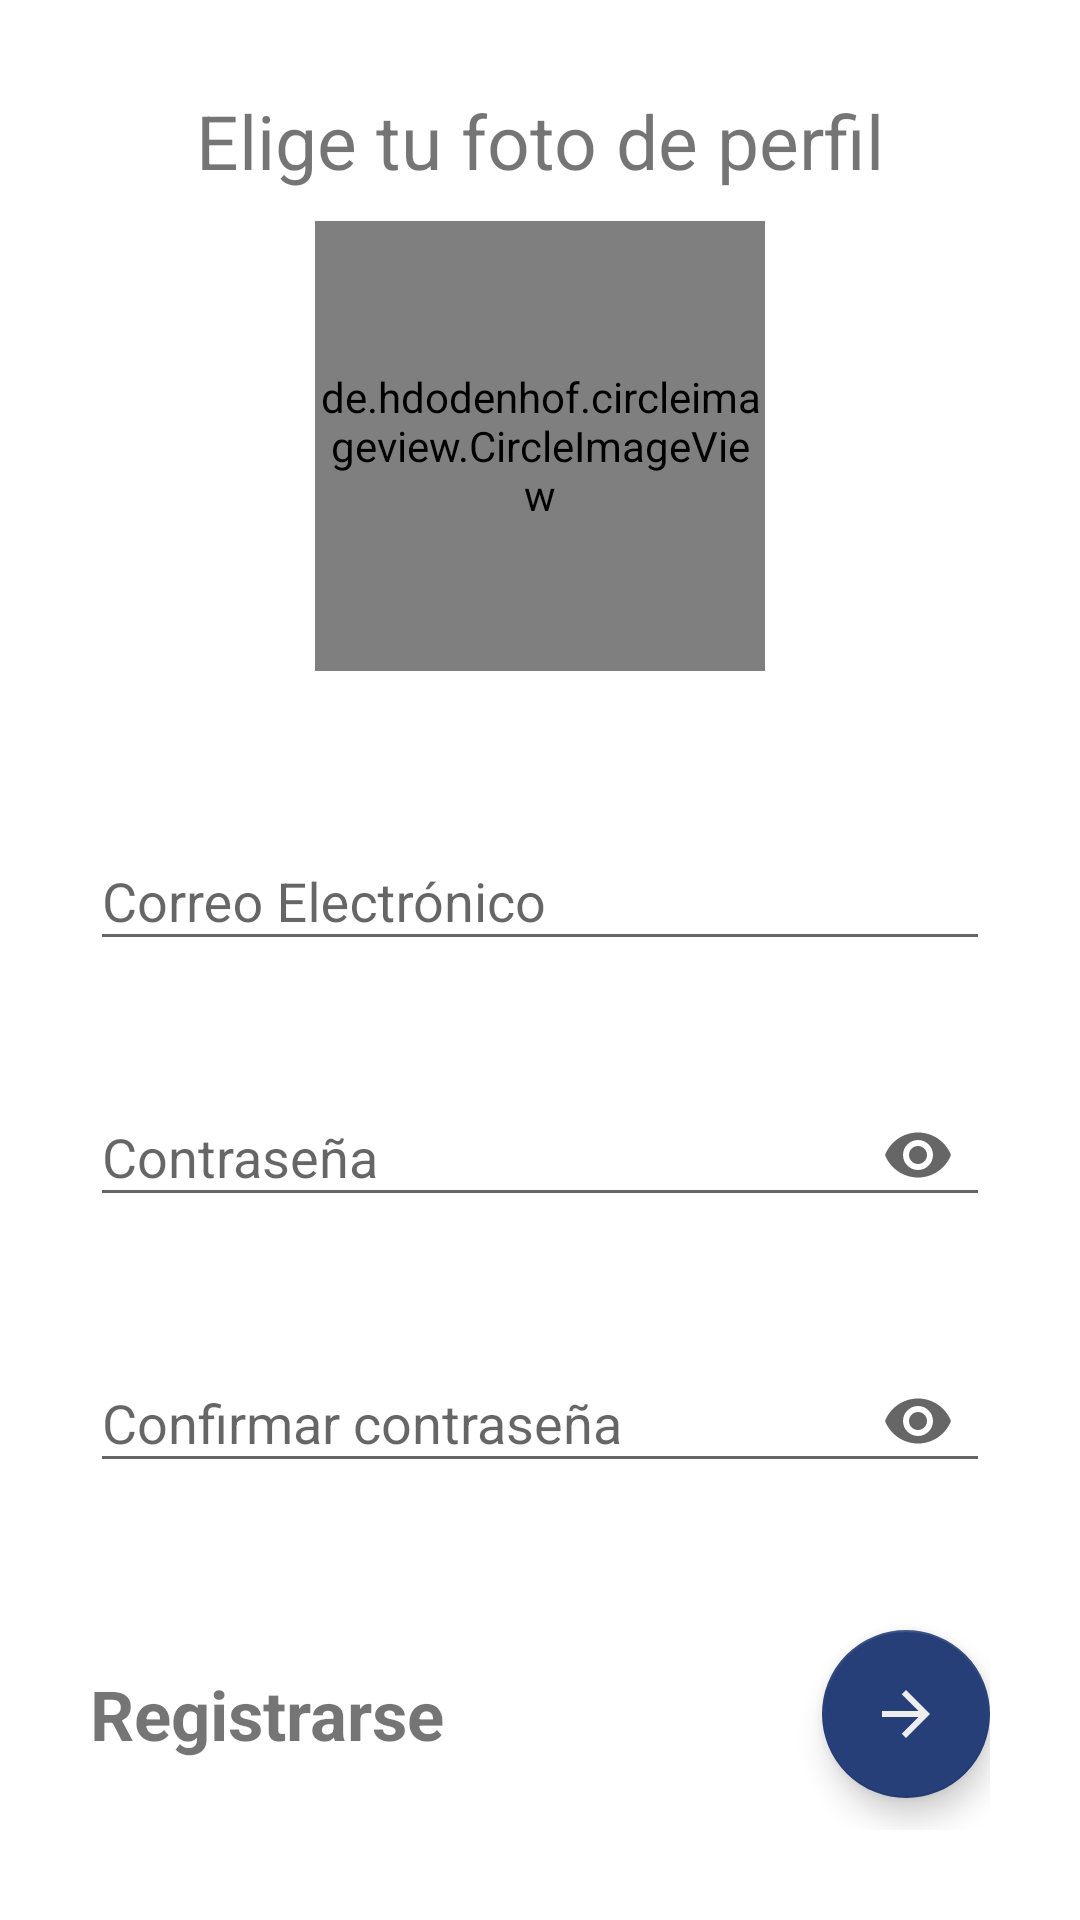

Icons on this 1080x1920 Android screen, each with its box as (x1, y1, x2, y2):
arrow right: (822, 1630, 990, 1798)
